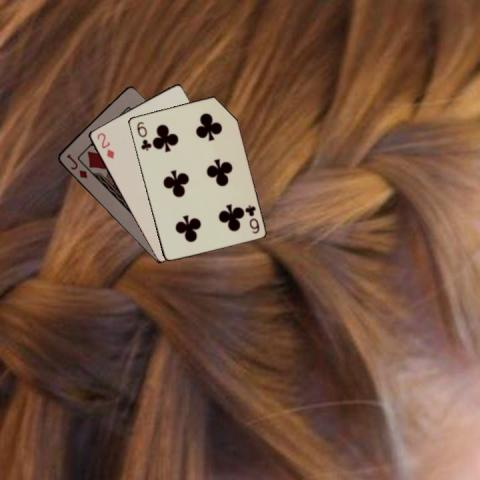2d: (94, 129, 116, 160)
6c: (133, 119, 152, 152), (242, 202, 261, 235)
Jd: (63, 151, 89, 180)
